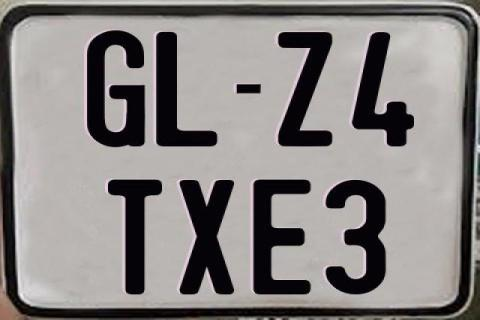0: (352, 32, 419, 146), (326, 180, 387, 294)
E: (250, 177, 309, 297)
G: (87, 28, 145, 148)
L: (155, 30, 219, 144)
T: (108, 180, 167, 300)
X: (176, 178, 237, 294)
Z: (278, 31, 338, 148)
